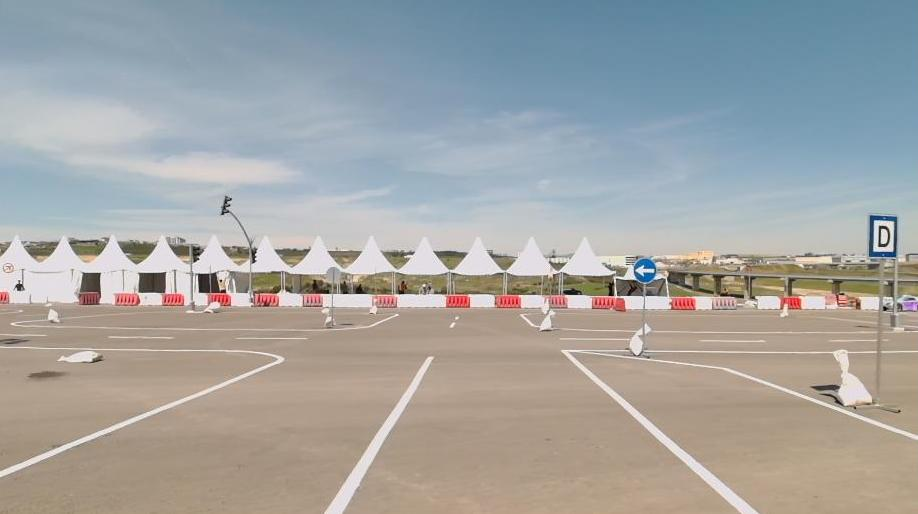nesne: (0, 311, 755, 512), (0, 306, 462, 502), (325, 310, 757, 514), (561, 348, 917, 512), (0, 346, 284, 478), (560, 348, 757, 513), (575, 349, 917, 441), (323, 356, 433, 513), (23, 323, 350, 330), (833, 349, 871, 401), (643, 345, 917, 352), (867, 214, 896, 257), (650, 328, 889, 332), (10, 291, 77, 303), (322, 293, 372, 307), (629, 323, 650, 355), (398, 293, 446, 307), (632, 258, 655, 283), (622, 296, 669, 308), (57, 350, 98, 363), (592, 295, 625, 309), (182, 291, 209, 307), (520, 294, 548, 309), (670, 295, 696, 310), (468, 293, 495, 307), (252, 293, 280, 306), (554, 326, 637, 330), (496, 295, 521, 308), (566, 295, 591, 308), (701, 337, 764, 342), (445, 294, 469, 307), (210, 291, 230, 306), (372, 294, 397, 306), (755, 296, 780, 308), (78, 292, 101, 305), (116, 293, 139, 306), (280, 293, 303, 306), (231, 292, 252, 306), (713, 296, 734, 310), (541, 309, 554, 331), (236, 336, 307, 340), (558, 335, 629, 339), (572, 347, 627, 352), (830, 336, 885, 341), (137, 293, 162, 304), (303, 293, 322, 307), (548, 294, 567, 308), (802, 296, 824, 308), (781, 296, 801, 308), (163, 293, 184, 304), (323, 307, 335, 326), (219, 195, 231, 214), (696, 297, 712, 309), (108, 335, 171, 338), (47, 304, 58, 321), (100, 293, 116, 304), (1, 332, 42, 336), (205, 301, 219, 312), (2, 262, 13, 273), (1, 291, 9, 302), (251, 247, 256, 263)
